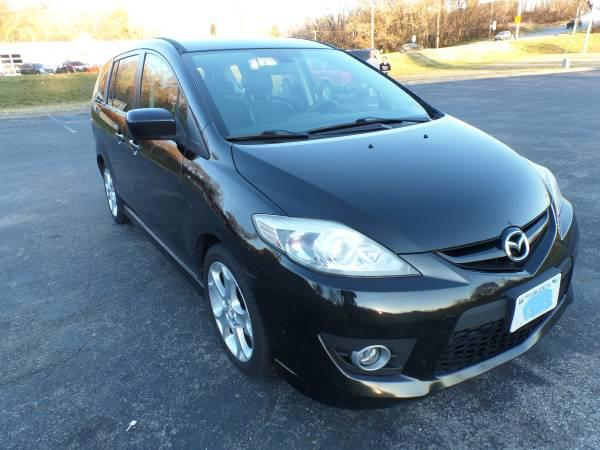Front_Bumper: (253, 185, 577, 403)
Front_Fender: (182, 132, 279, 286)
Front_Right_Door: (127, 128, 187, 268)
Front_Right_Window: (127, 55, 198, 156)
Front_Windshield: (184, 47, 441, 145)
Grille: (436, 248, 578, 381)
Hood: (231, 115, 553, 253)
Rear_Right_Door: (90, 101, 135, 204)
Rear_Right_Window: (96, 58, 144, 125)
Right_Headlight: (257, 218, 423, 278)
Roof: (103, 36, 333, 146)
Wheel: (204, 250, 270, 377)
